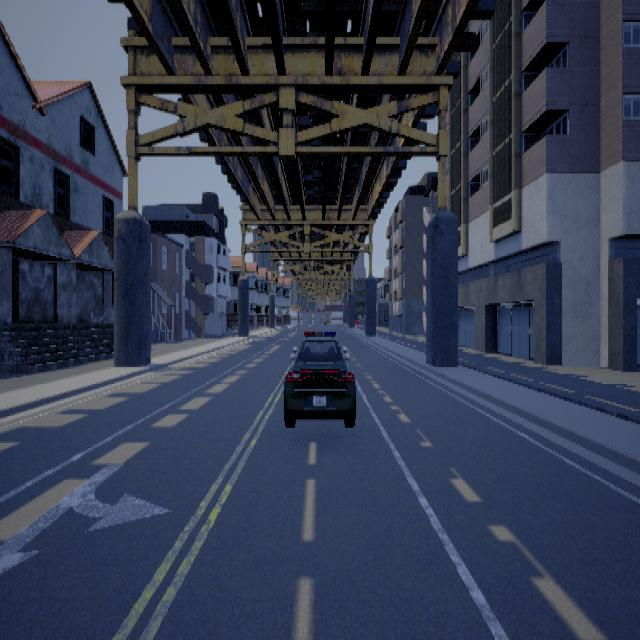vehicle: (282, 330, 355, 426)
